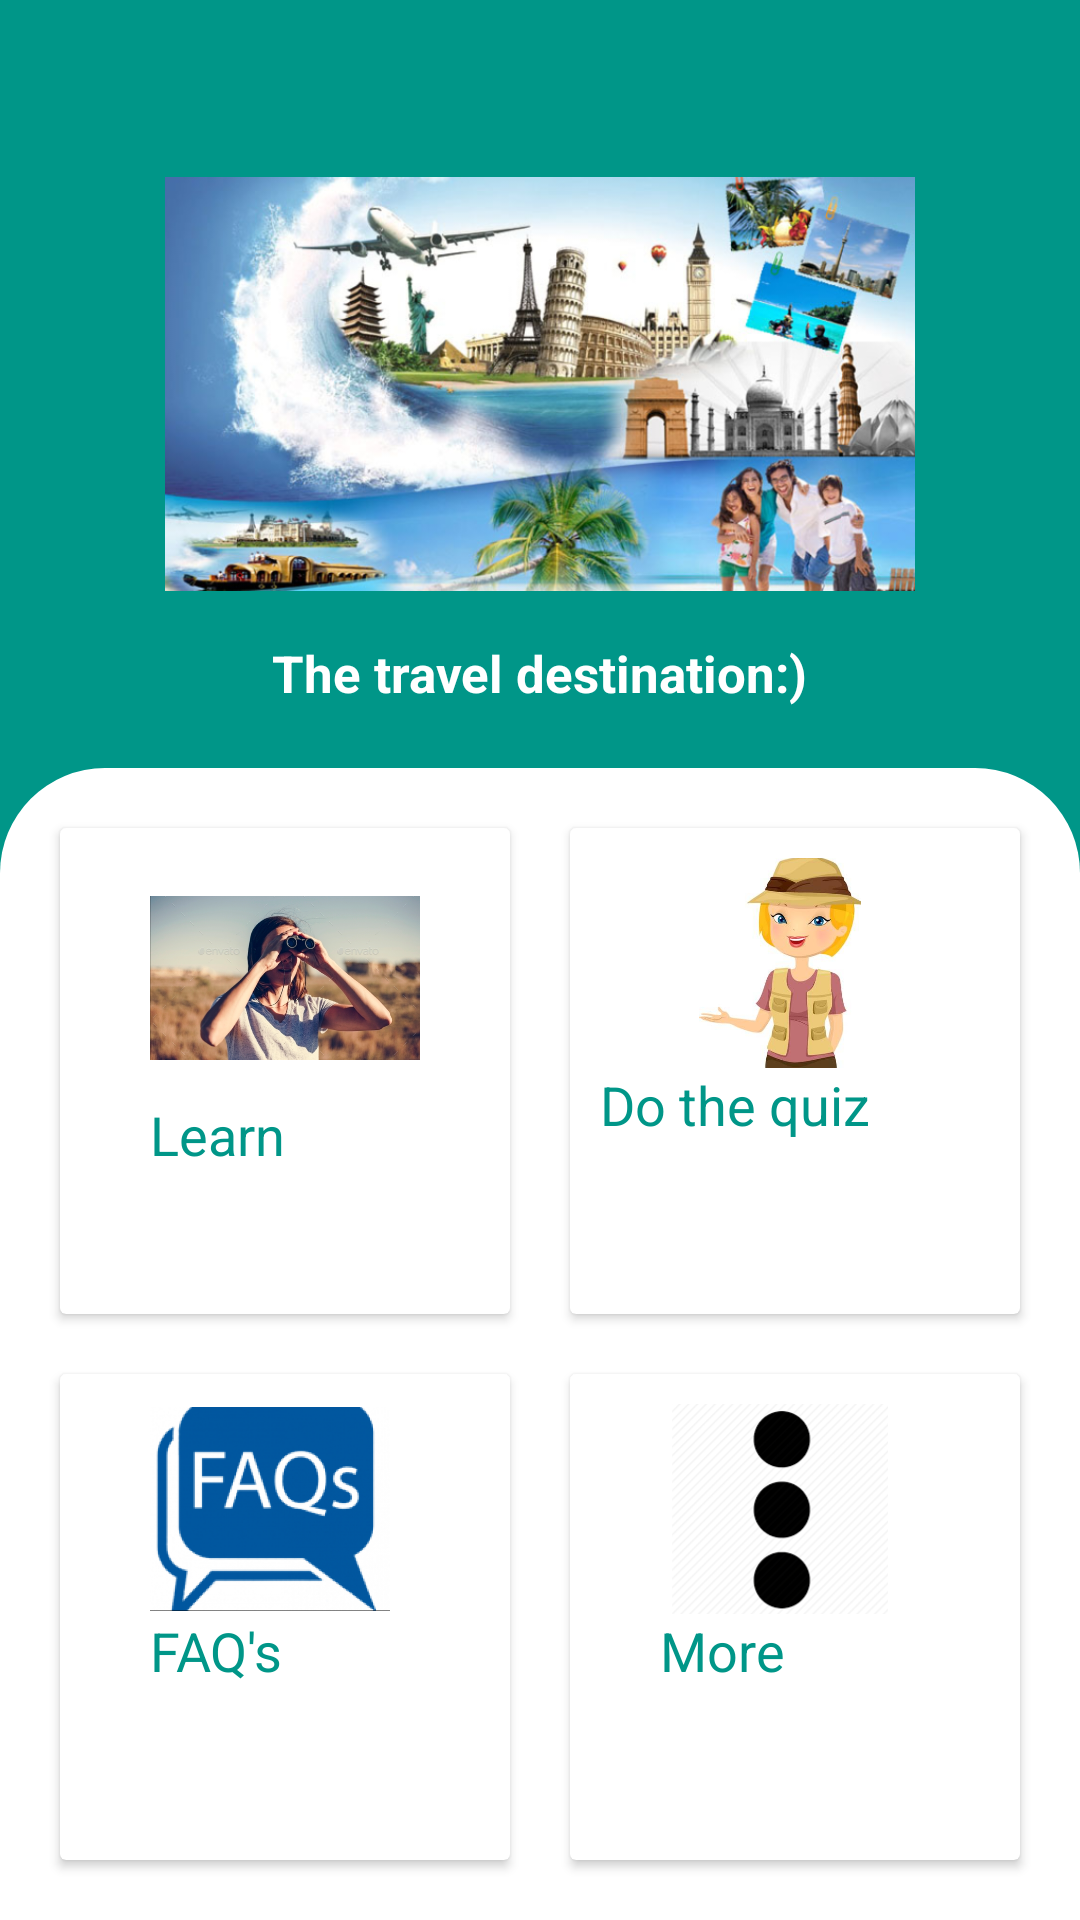

Named icons in this screenshot (1080 × 1920) and their bounding boxes, (x1, y1, x2, y2):
Tour Guide: (699, 858, 861, 1068)
tourist: (150, 896, 420, 1060)
